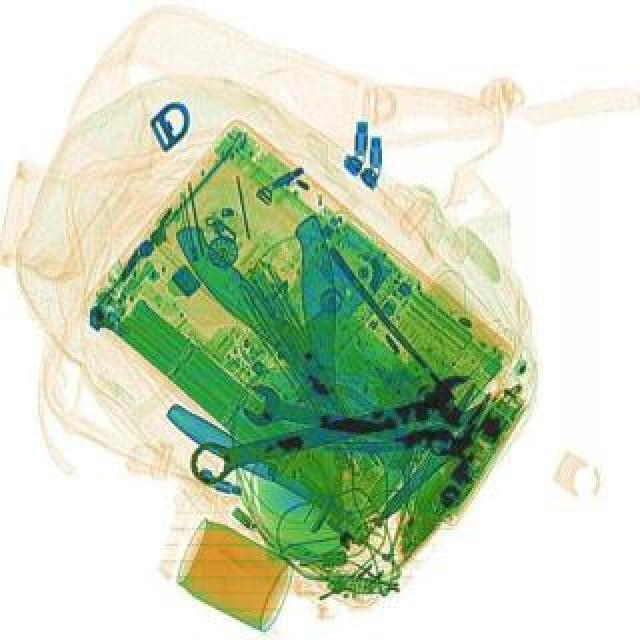knife: (154, 192, 472, 474), (252, 214, 348, 560)
scissors: (180, 368, 490, 492), (242, 378, 462, 466)
